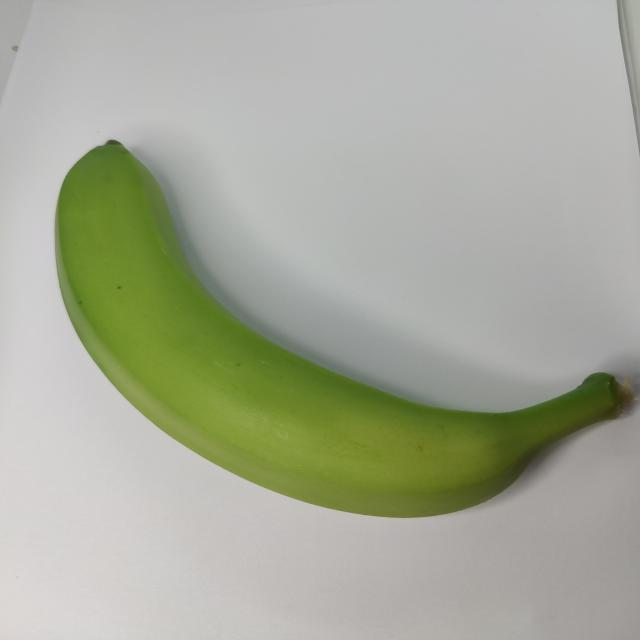raw: (32, 120, 640, 537)
